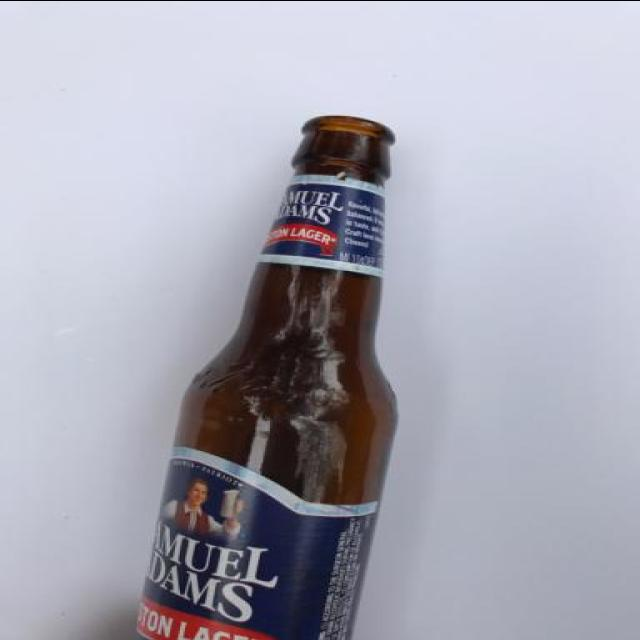glass: (102, 110, 440, 640)
